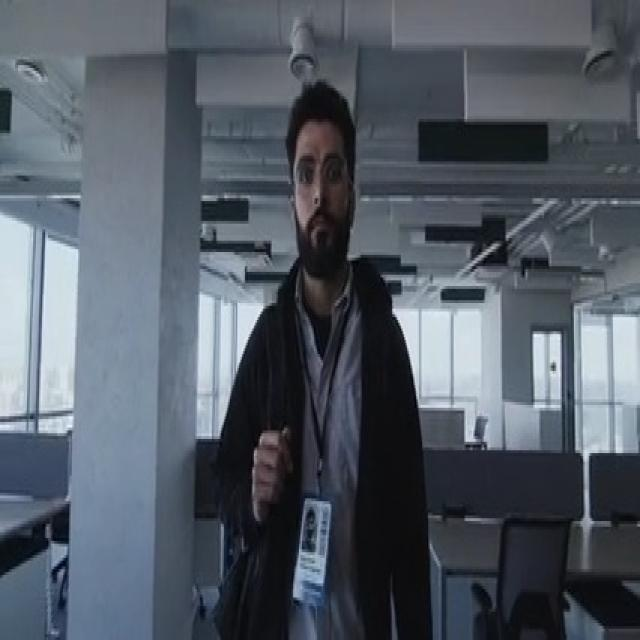Jacket_Wearer: (218, 244, 424, 640)
Person: (216, 61, 424, 640)
